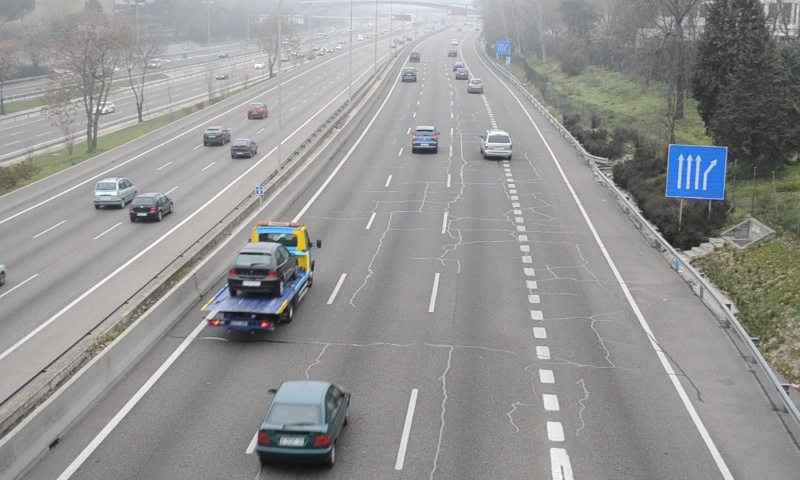car: (256, 381, 348, 463), (482, 129, 513, 158), (410, 125, 438, 152), (468, 76, 485, 95), (402, 67, 416, 82)
small-truck: (200, 222, 315, 332)
